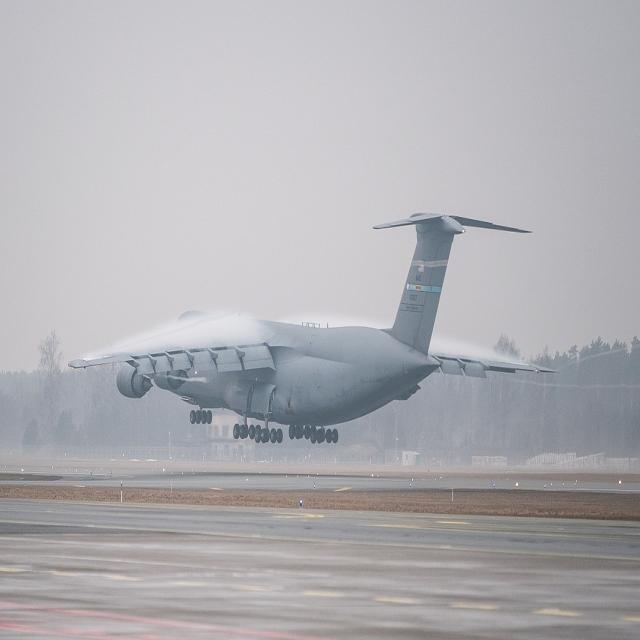MIL_Plane: (24, 211, 512, 443)
